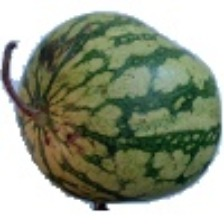watermelon: (61, 9, 203, 198)
